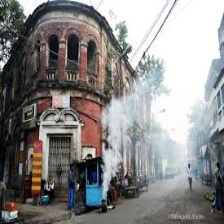smoke: (102, 96, 137, 188)
